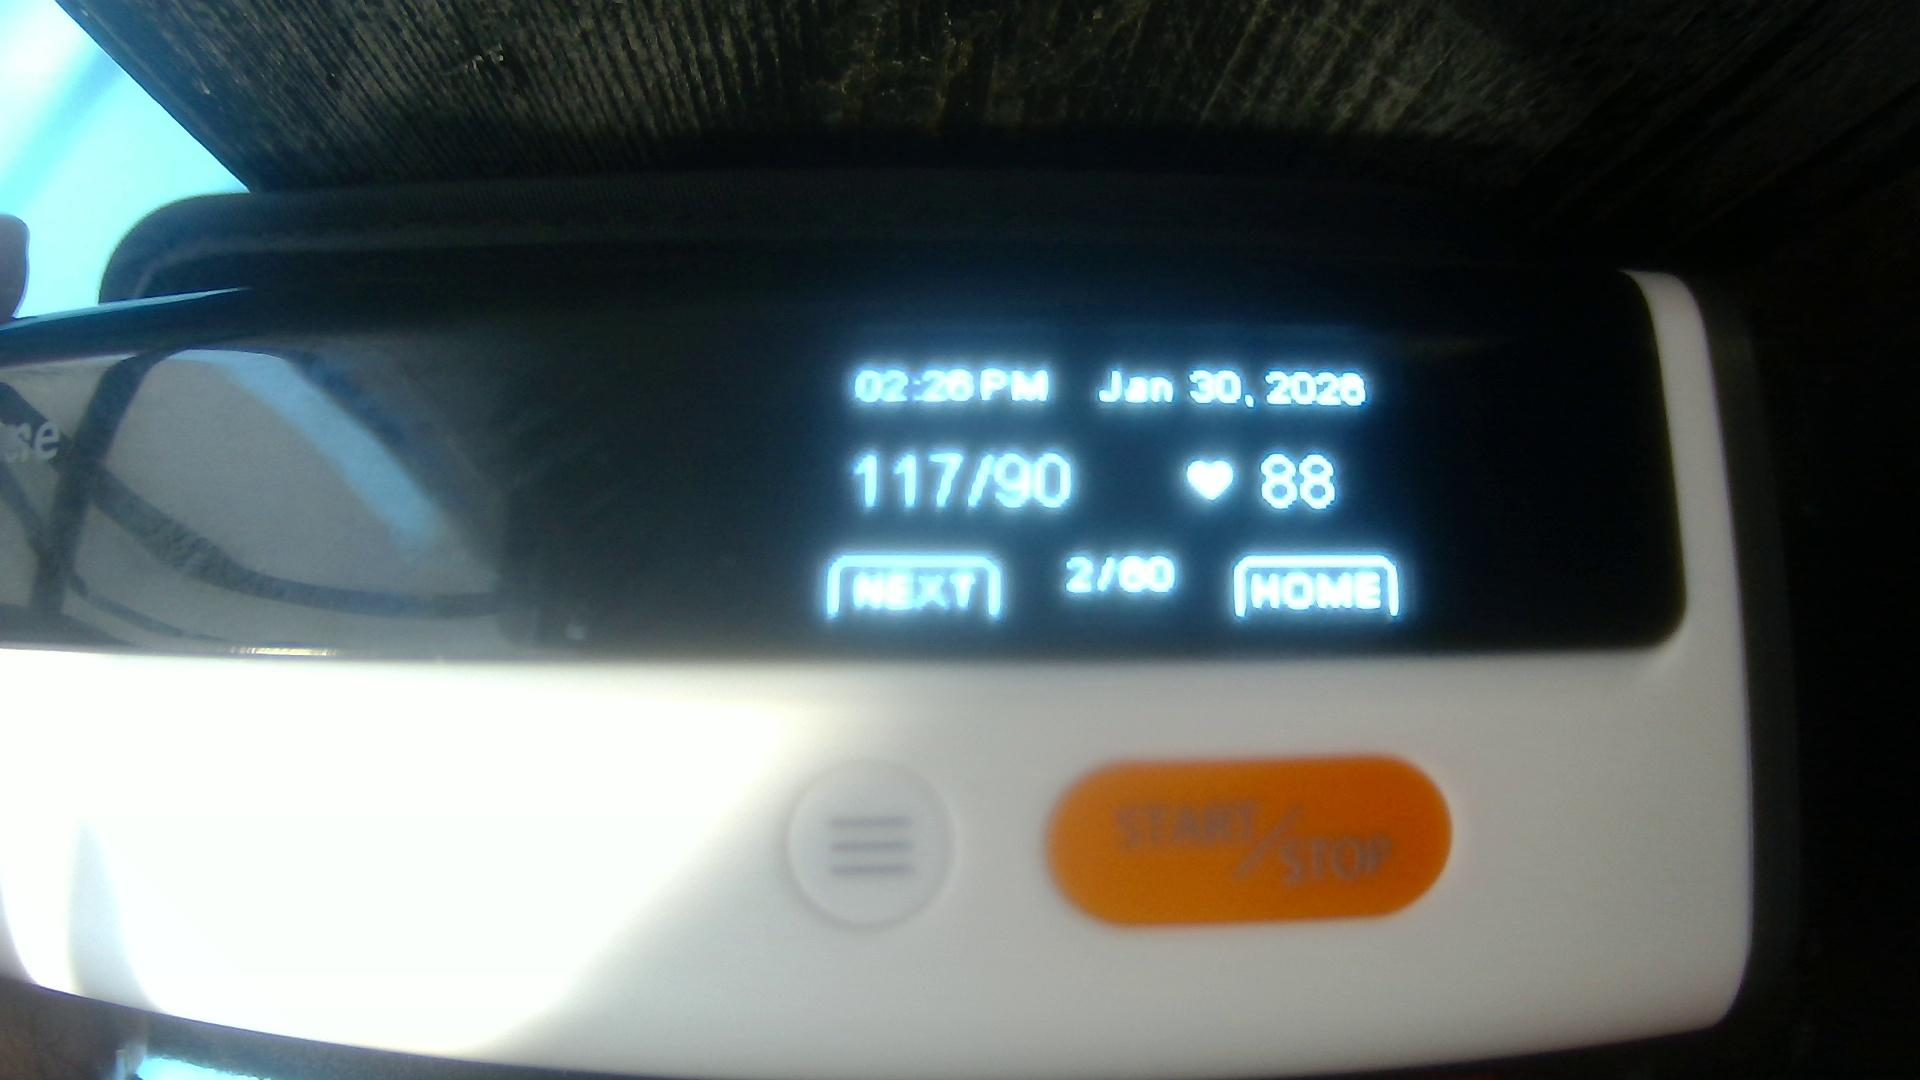DISPLAY: (13, 277, 1668, 646)
